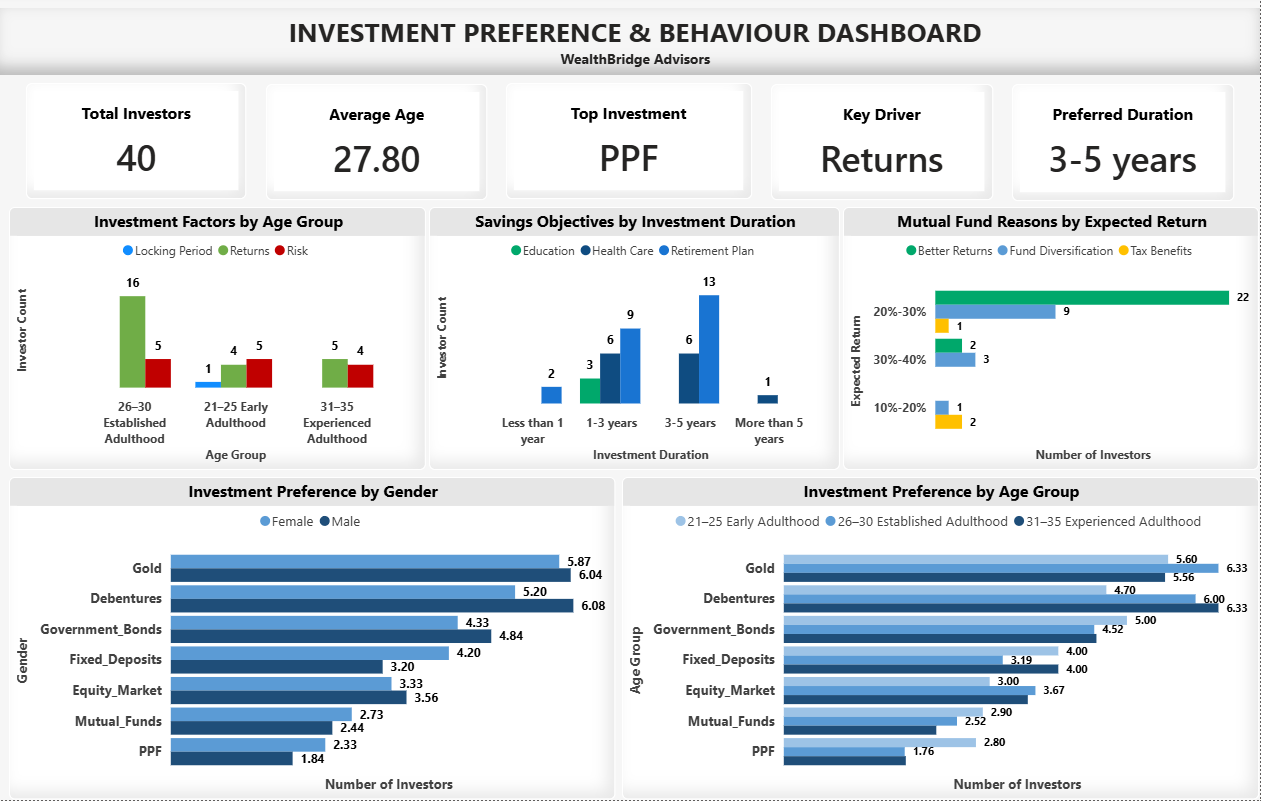

This screenshot's page, from the dashboard's own definition file:
{"tool":"powerbi","page":{"name":"Page 1","canvas":[1269,810],"ordinal":0},"visuals":[{"type":"clusteredBarChart","title":"Investment Preference by Gender","fields":{"Category":["Investment unpivote.Investor Perference"],"Series":["Investment unpivote.Gender"],"Y":["Avg(Investment unpivote.Investor rank)"]},"box":[9.1,484.6,610.5,325.4],"z":0},{"type":"clusteredBarChart","title":"Investment Preference by Age Group","fields":{"Category":["Investment unpivote.Investor Perference"],"Y":["Avg(Investment unpivote.Investor rank)"],"Series":["Investment Preference Data.Age Group 2"]},"box":[626.6,484.6,641.8,325.4],"z":1000},{"type":"clusteredColumnChart","title":"Investment Factors by Age Group","fields":{"Y":["CountNonNull(Investment Preference Data.Factor)"],"Series":["Investment Preference Data.Factor"],"Category":["Investment Preference Data.Age Group 2"]},"box":[9.1,212.6,420.1,265],"z":2000},{"type":"clusteredColumnChart","title":"Savings Objectives by Investment Duration","fields":{"Category":["Investment Preference Data.Duration"],"Y":["CountNonNull(Investment Preference Data.Savings_Objectives)"],"Series":["Investment Preference Data.Savings_Objectives"]},"box":[432.2,212.6,414.1,265],"z":3000},{"type":"clusteredBarChart","title":"Mutual Fund Reasons by Expected Return","fields":{"Category":["Investment Preference Data.Expect"],"Y":["CountNonNull(Investment Preference Data.Reason_Mutual)"],"Series":["Investment Preference Data.Reason_Mutual"]},"box":[849.3,212.6,419.1,265],"z":4000},{"type":"cardVisual","fields":{"Data":["KPI Measure.Average Investor Age"]},"box":[267.9,88.9,223.3,116.7],"z":5000},{"type":"cardVisual","fields":{"Data":["KPI Measure.Most Popular Investment Avenue"]},"box":[510.2,87.8,247.8,116.7],"z":6000},{"type":"cardVisual","fields":{"Data":["KPI Measure.Test 2"]},"box":[776.9,88.7,223.7,116.9],"z":7000},{"type":"cardVisual","title":"Total Investors","fields":{"Data":["KPI Measure.Total Investors"]},"box":[26.7,87.8,222.2,116.7],"z":8000},{"type":"cardVisual","fields":{"Data":["KPI Measure.Preferred Investment Duration"]},"box":[1019.6,88.7,223.7,117.9],"z":9000},{"type":"textbox","box":[0,11.7,1280,66.6],"z":10000}]}

Visuals, with their boxes in screenshot pixels (x1, y1, x2, y2), scaled from the page's 1269x810 canvas onto the 1261x801 screenshot:
"Investment Preference by Gender" clusteredBarChart: bbox=[9, 479, 616, 800]
"Investment Preference by Age Group" clusteredBarChart: bbox=[623, 479, 1260, 800]
"Investment Factors by Age Group" clusteredColumnChart: bbox=[9, 210, 426, 472]
"Savings Objectives by Investment Duration" clusteredColumnChart: bbox=[429, 210, 841, 472]
"Mutual Fund Reasons by Expected Return" clusteredBarChart: bbox=[844, 210, 1260, 472]
cardVisual - KPI Measure.Average Investor Age: bbox=[266, 88, 488, 203]
cardVisual - KPI Measure.Most Popular Investment Avenue: bbox=[507, 87, 753, 202]
cardVisual - KPI Measure.Test 2: bbox=[772, 88, 994, 203]
"Total Investors" cardVisual: bbox=[27, 87, 247, 202]
cardVisual - KPI Measure.Preferred Investment Duration: bbox=[1013, 88, 1235, 204]
textbox: bbox=[0, 12, 1260, 77]
